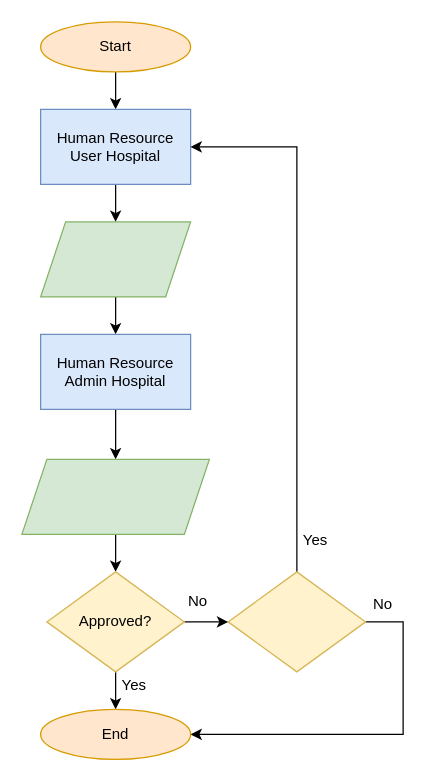
Some shapes in this 443 by 781 pixel diagram are drawn without their labels. Each missing label, with the box of its shape:
Rejected?: (227, 571, 366, 672)
Request Hospital Reimbursement: (39, 221, 191, 297)
Response (Approve/Reject/): (21, 458, 209, 534)
